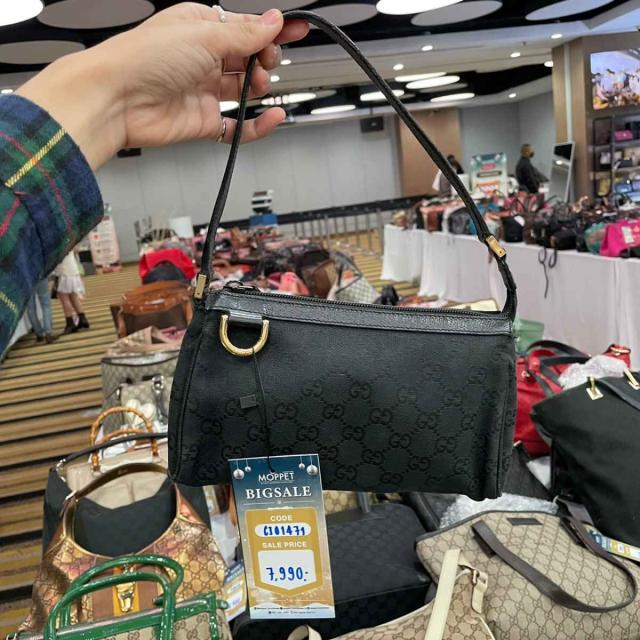Handbag: (150, 287, 534, 515)
